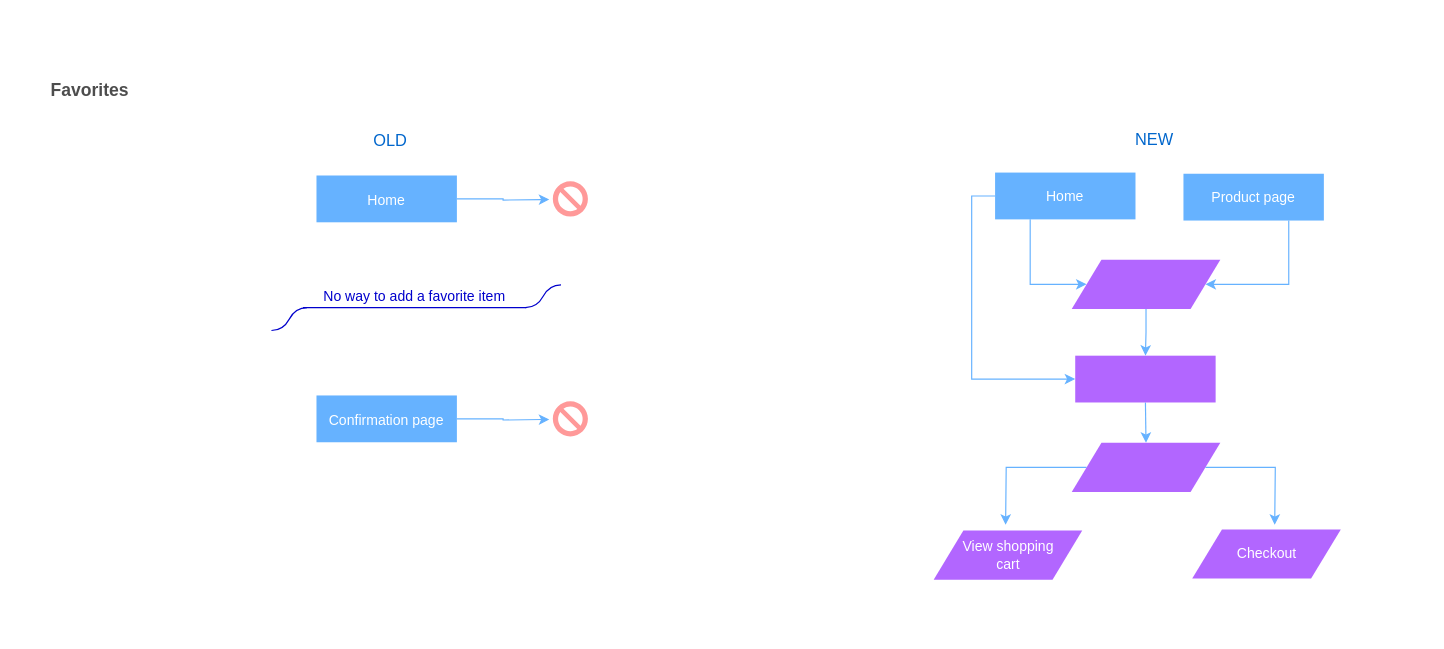
The diagram is 1444 pixels wide and 649 high, and some of its shapes have lost their labels. The shapes that lost their labels are listed below. From the top down, each one's centre as x and y in pixels, then its label:
(1145,283): Save to favorites
(1145,378): Favorites page
(1145,466): Add to cart
